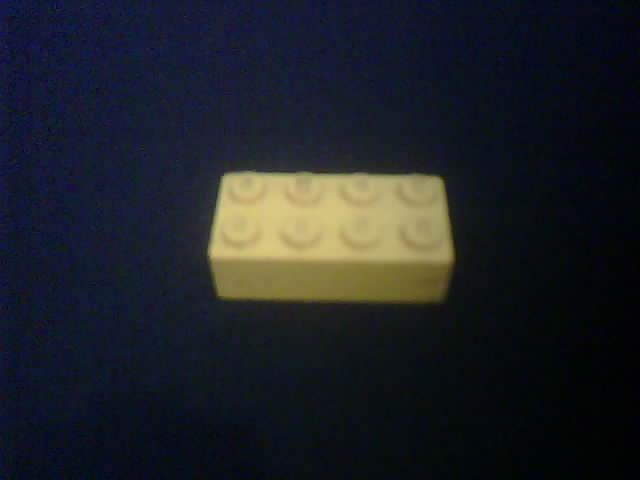lego: (205, 170, 457, 306)
